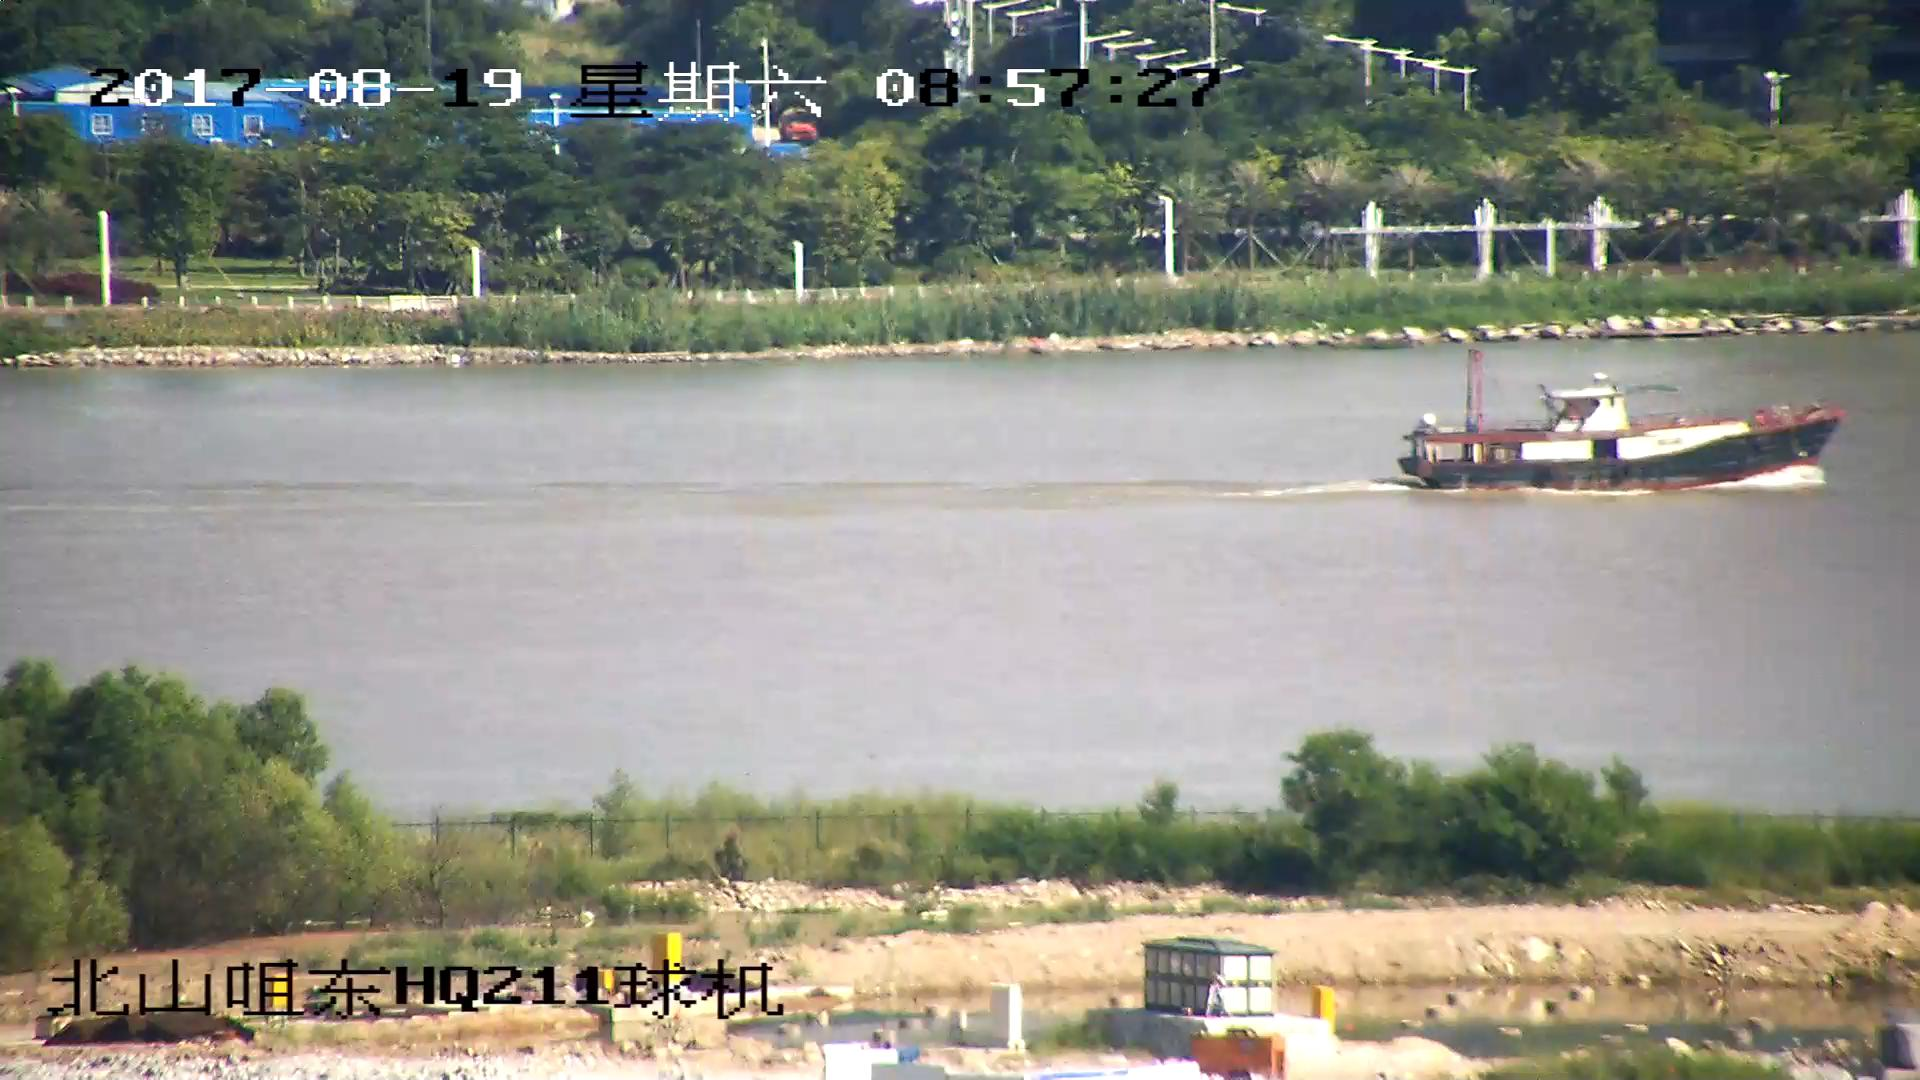fishing boat: (1402, 347, 1845, 495)
